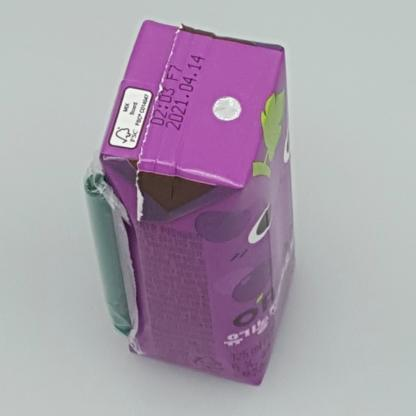---------------: (82, 20, 295, 387)
